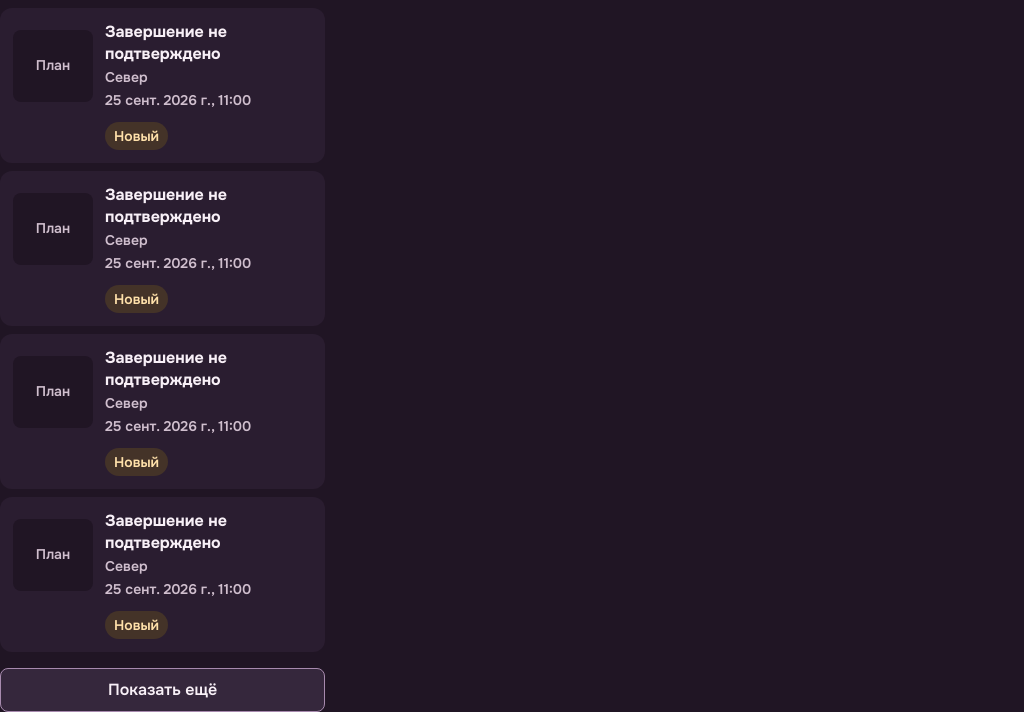
Test case: SignalsPage › shows twenty rows, loads more, and filters by state
(page scrolled)
Click the button "Показать ещё" at (162, 690), box [0,668,325,711]
(page scrolled)
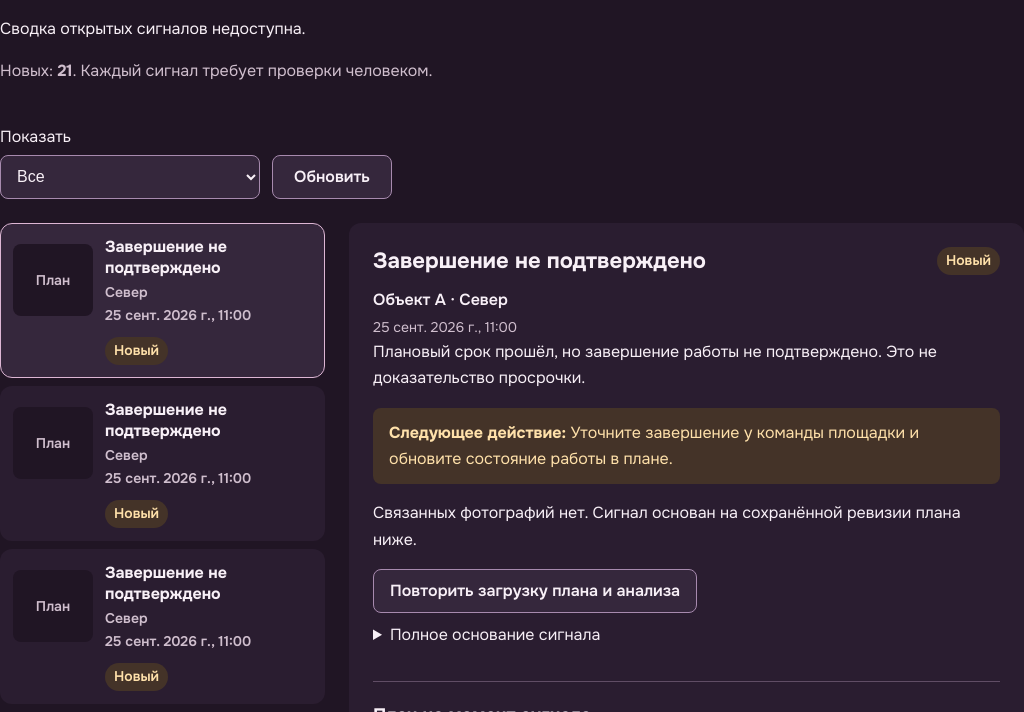
Expected: the number of buttons with class "signals-row" is 21
Select "Закрытые" in the dropdown labelled "Показать" at (130, 177), box [0,155,260,199]
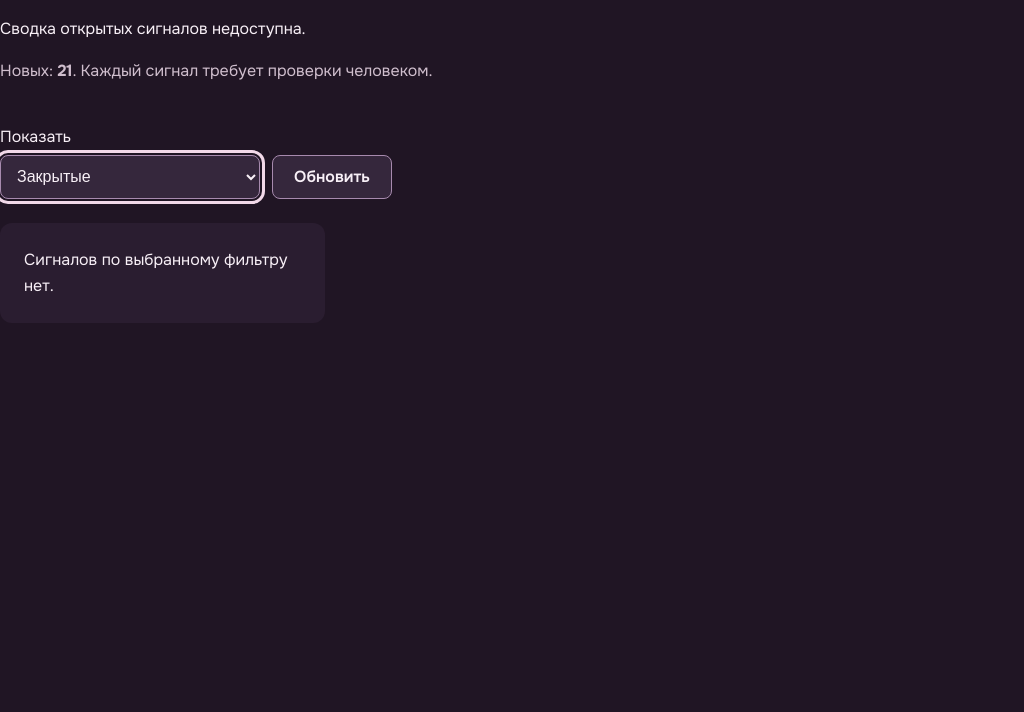
Expected: the text "Сигналов по выбранному фильтру нет." is shown, [0,223,325,324]
